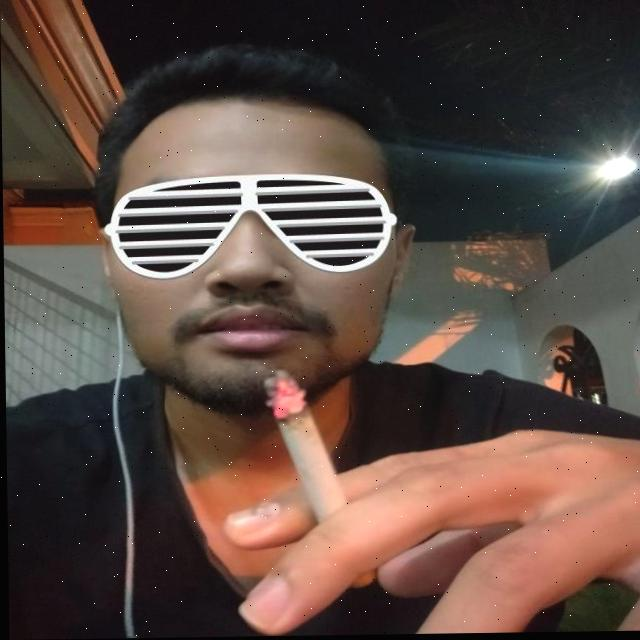cigarette: (261, 369, 376, 590)
